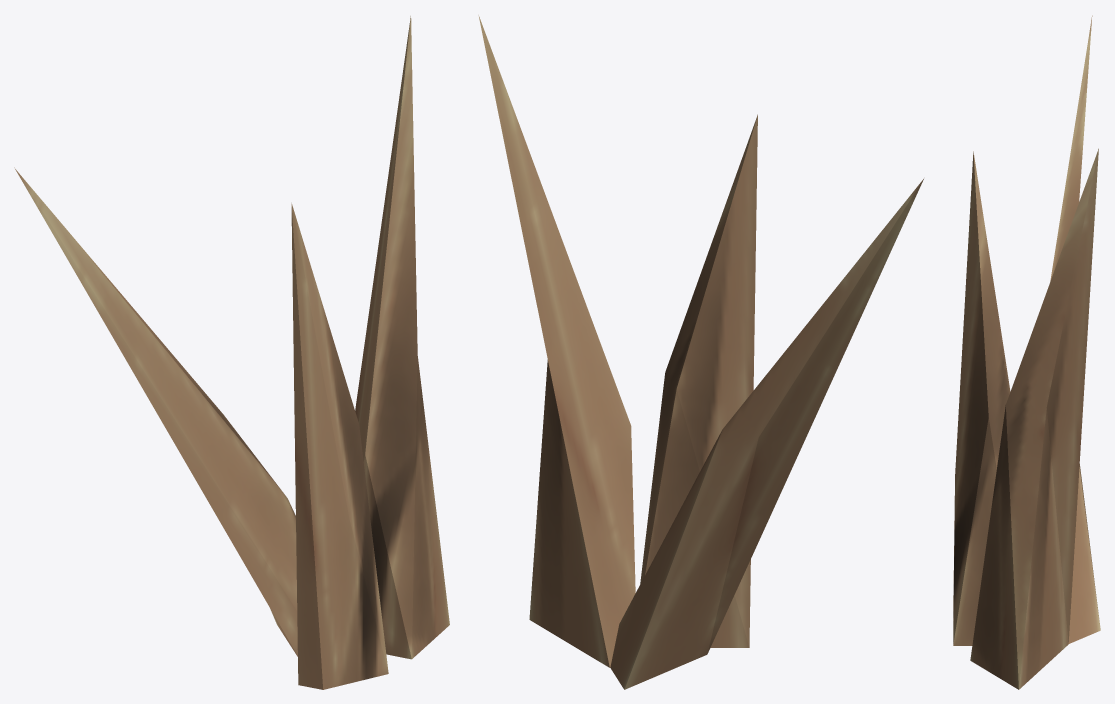
Rendered from Grass_4.fbx.
The picture shows the model from 3 angles, left to right: view 1: azimuth 30°, elevation 25°; view 2: azimuth 150°, elevation 25°; view 3: azimuth 270°, elevation 25°; orthographic projection. The views are drawn at different scales.
Visible parts, largest first — view 1: Grass_4; view 2: Grass_4; view 3: Grass_4.
Boxes of the visible parts, bbox=[...] form: Grass_4: bbox=[14, 16, 449, 689]; Grass_4: bbox=[478, 15, 923, 689]; Grass_4: bbox=[953, 15, 1100, 689].
Bounding box in the file's own units: 16.5 × 22.79 × 5.6.
